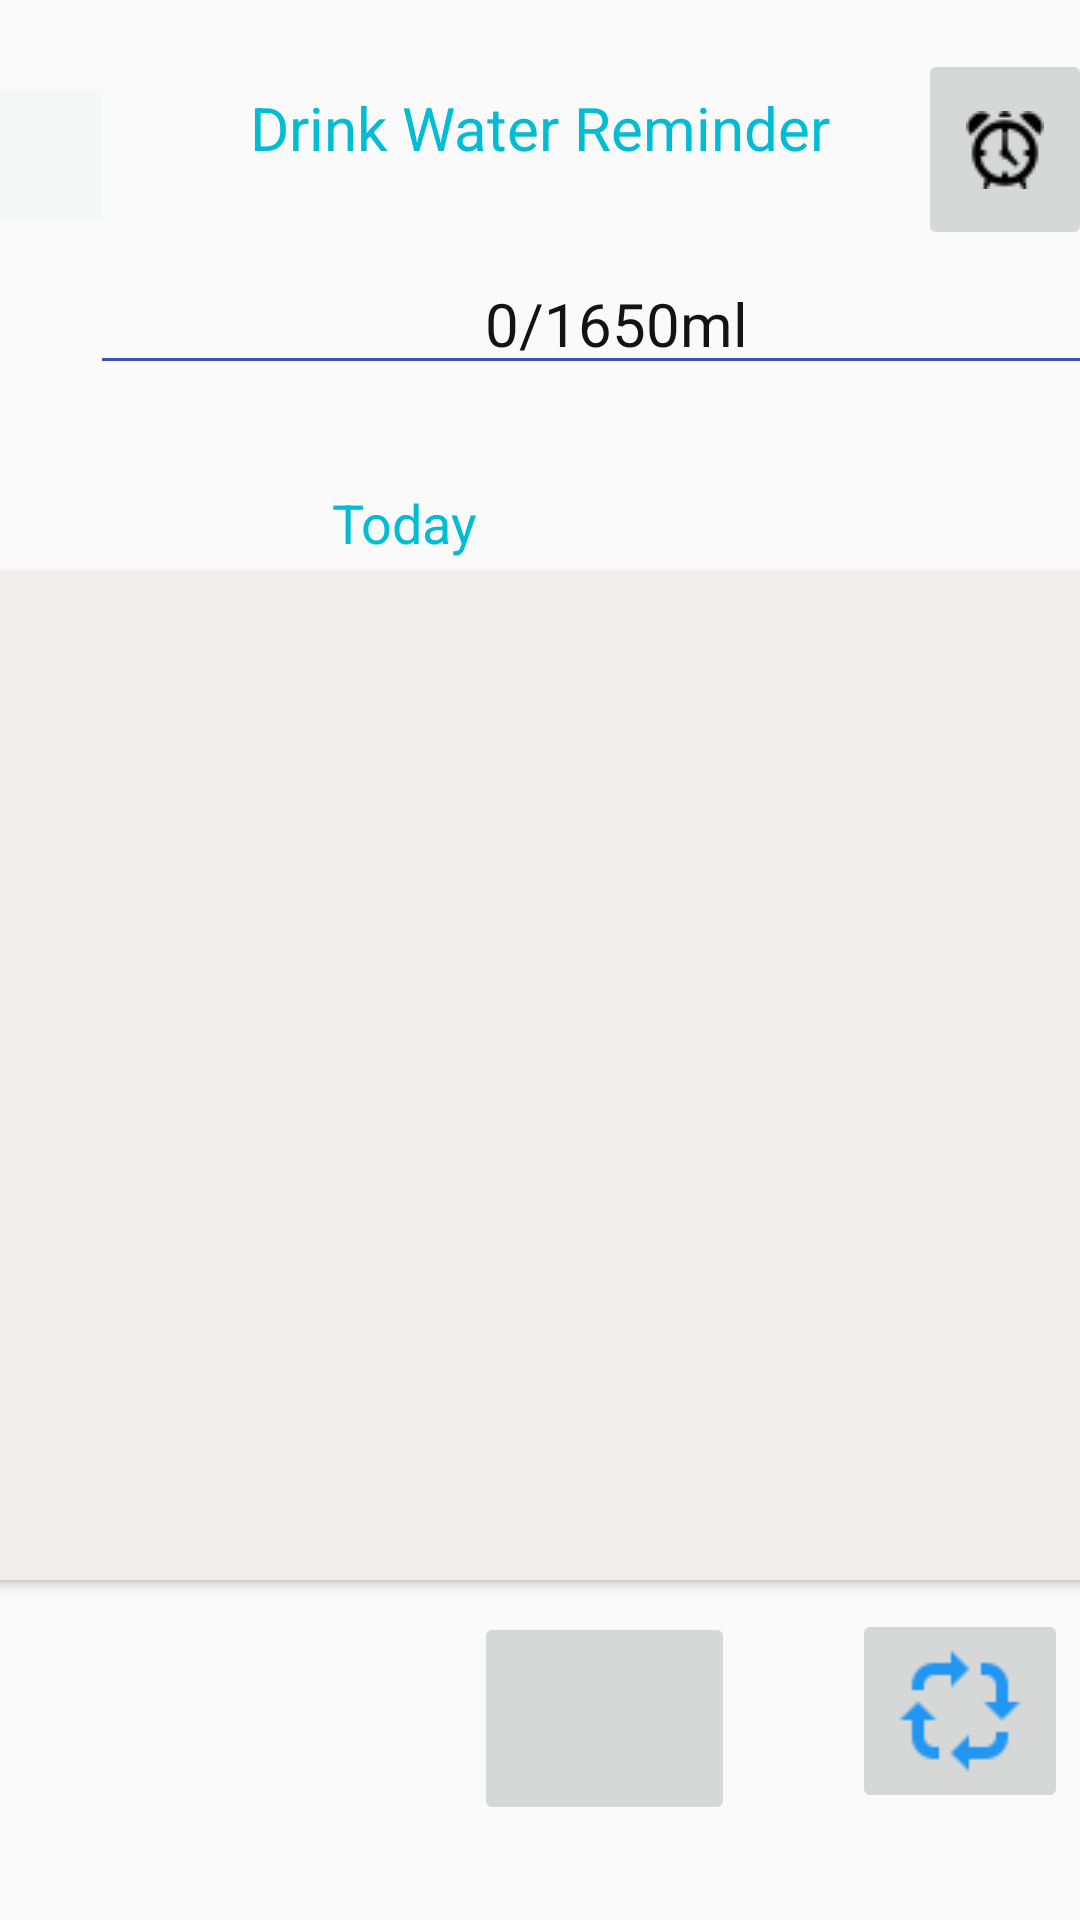

Icons on this 1080 x 1920 Android screen, each with its box as bbox=[x1, y1, x2, y2]:
alarm: bbox=[930, 67, 1080, 232]
recycle: bbox=[864, 1627, 1056, 1795]
